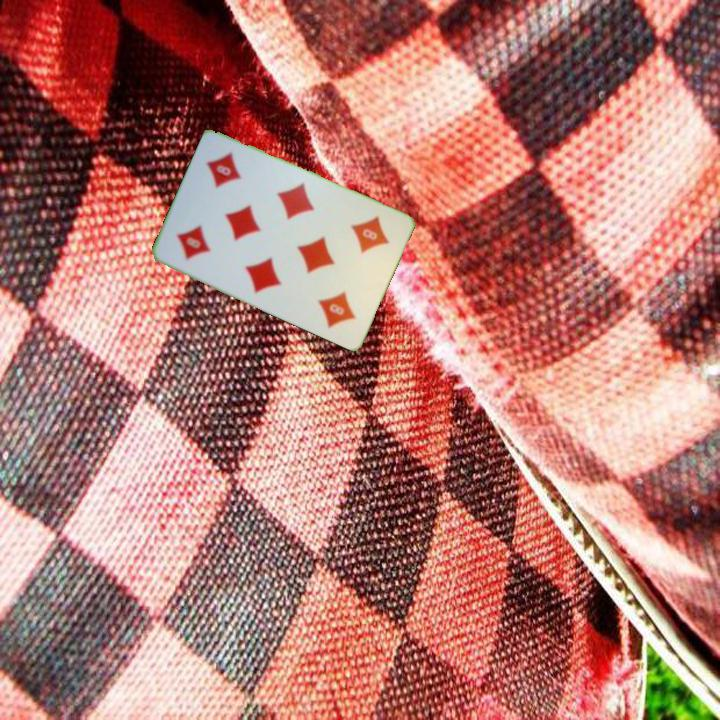d_8.png: (161, 194, 239, 277), (326, 201, 404, 284)
